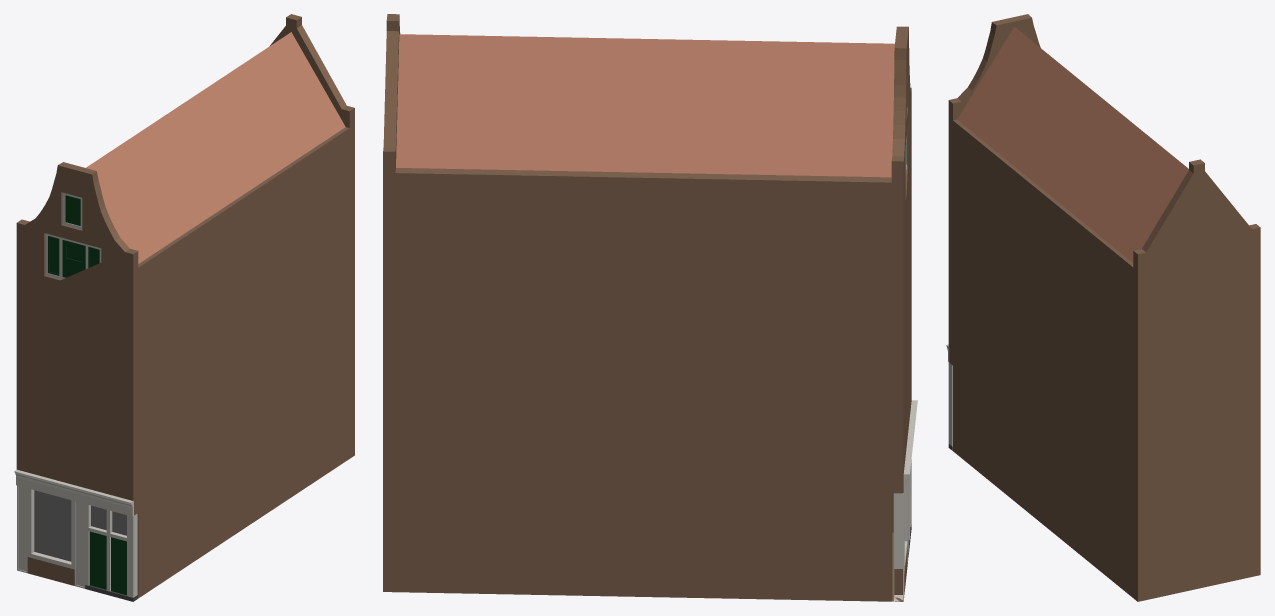
The model's file is Kattenburgerplein_6.fbx.
3 views of the same model, side by side, from view 1: azimuth 30°, elevation 25°; view 2: azimuth 150°, elevation 25°; view 3: azimuth 270°, elevation 25° (orthographic). The views are drawn at different scales.
Visible parts, largest first — view 1: Kattenburgerplein_6, Kattenburgerplein_6_roof, Kattenburgerplein_5_lower_frame.001, Kattenburgerplein_5_lower_frame.002, kattenburgerplein_6_windows, Cube.006; view 2: Kattenburgerplein_6, Kattenburgerplein_6_roof, Kattenburgerplein_5_lower_frame.001; view 3: Kattenburgerplein_6, Kattenburgerplein_6_roof, Kattenburgerplein_5_lower_frame.002.
Part boxes in pixels (<box>): Kattenburgerplein_6: <box>16,14,354,598</box>; Kattenburgerplein_6_roof: <box>86,32,345,263</box>; Kattenburgerplein_5_lower_frame.001: <box>17,485,85,588</box>; Kattenburgerplein_5_lower_frame.002: <box>85,504,137,601</box>; kattenburgerplein_6_windows: <box>45,192,101,279</box>; Cube.006: <box>14,469,133,516</box>; Kattenburgerplein_6: <box>383,14,911,601</box>; Kattenburgerplein_6_roof: <box>396,34,894,177</box>; Kattenburgerplein_5_lower_frame.001: <box>893,477,908,601</box>; Kattenburgerplein_6: <box>948,14,1260,601</box>; Kattenburgerplein_6_roof: <box>957,27,1188,262</box>; Kattenburgerplein_5_lower_frame.002: <box>948,362,952,450</box>.
Size of the model in its own units: 1367 by 1477 by 992.
